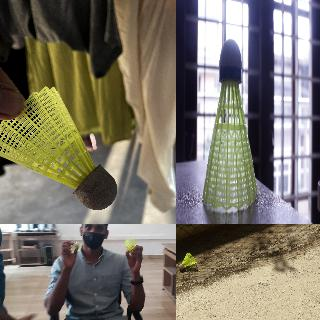shuttlecock: (0, 86, 117, 210), (202, 39, 257, 209), (178, 253, 196, 269), (124, 238, 136, 252)
